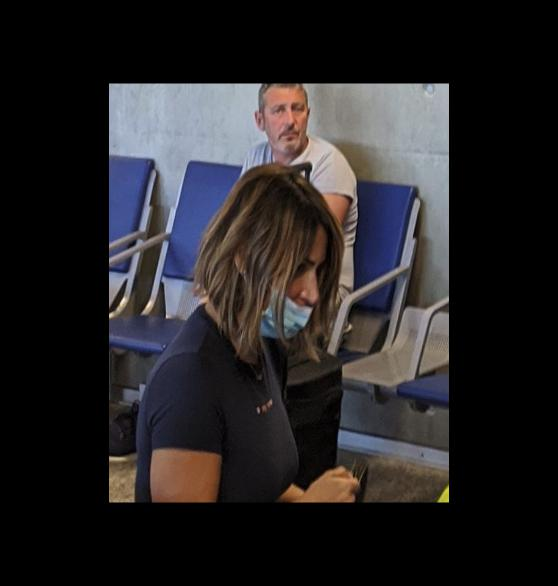mask_weared_incorrect: (267, 258, 328, 343)
without_mask: (263, 95, 310, 149)
